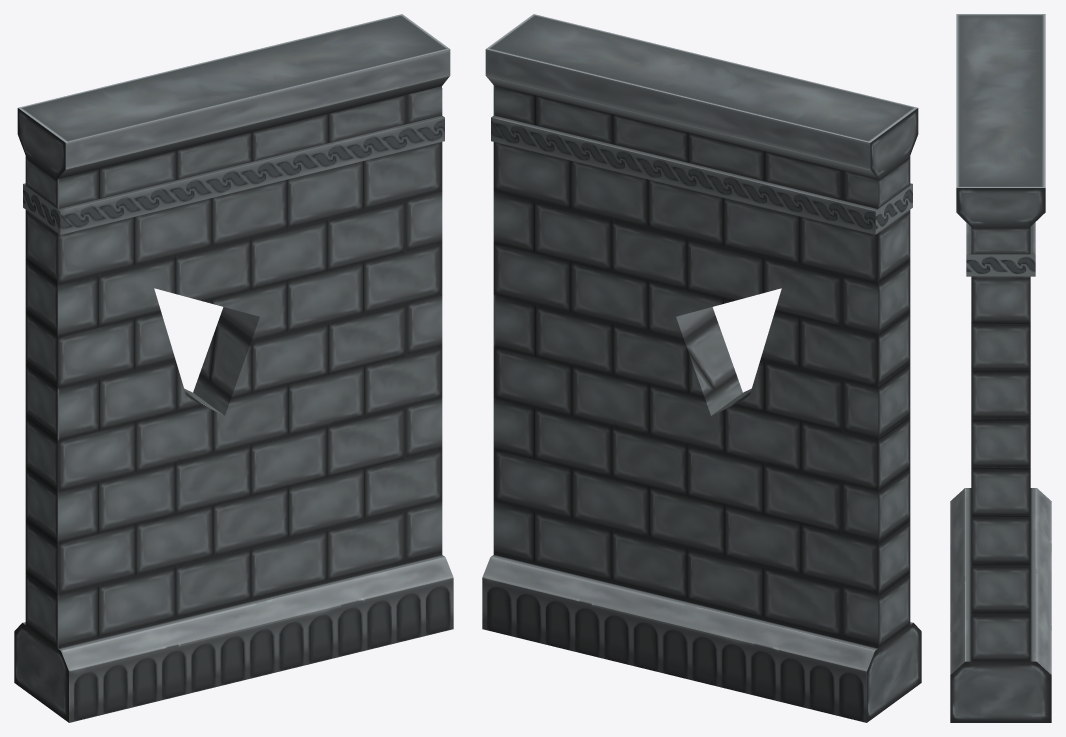
The model's file is wallCracked.fbx.
3 views of the same model, side by side, from view 1: azimuth 30°, elevation 25°; view 2: azimuth 150°, elevation 25°; view 3: azimuth 270°, elevation 25° (orthographic). The views are drawn at different scales.
Visible parts, largest first — view 1: wallStraightSegment:wallStraightPiece1; view 2: wallStraightSegment:wallStraightPiece1; view 3: wallStraightSegment:wallStraightPiece1.
Part boxes in pixels (x1,y1,x2,y2): wallStraightSegment:wallStraightPiece1: (14, 14, 453, 722); wallStraightSegment:wallStraightPiece1: (482, 14, 921, 722); wallStraightSegment:wallStraightPiece1: (950, 14, 1051, 722).
Bounding box in the file's own units: 2 × 2.87 × 0.494.
1 material, 1 textured.
